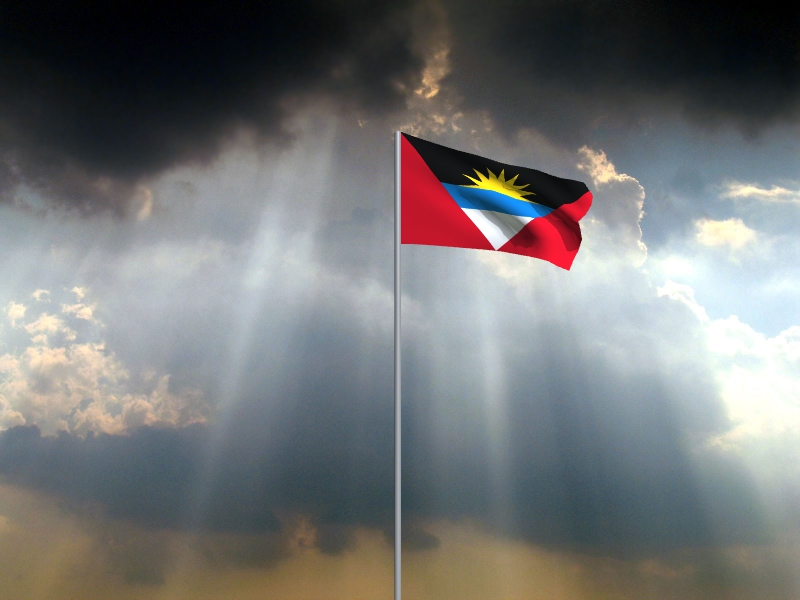ag: (402, 133, 595, 273)
